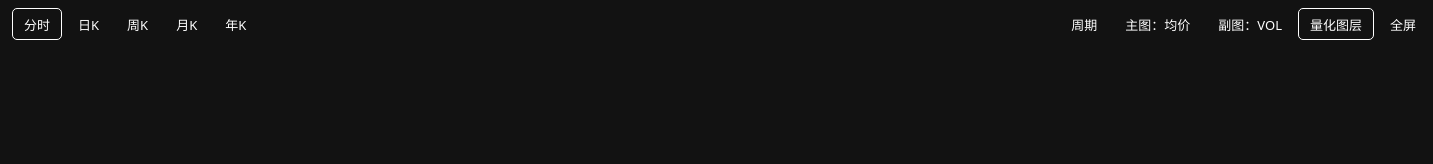
Test: offers MA and BOLL only for candle periods
Click the button "日K": (89, 24) left=66, top=8, right=111, bottom=40
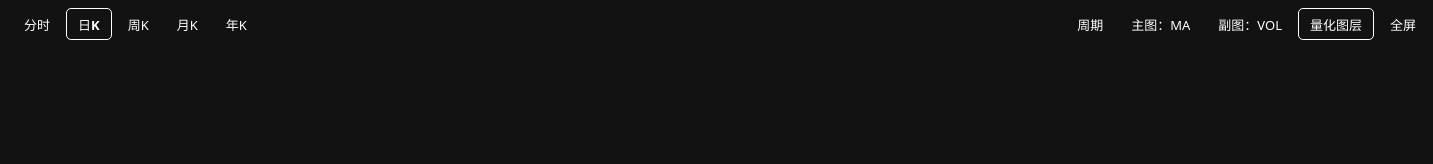
Check: the button "主图：MA" is shown
Click the button "主图：MA": (1161, 24) left=1119, top=8, right=1202, bottom=40
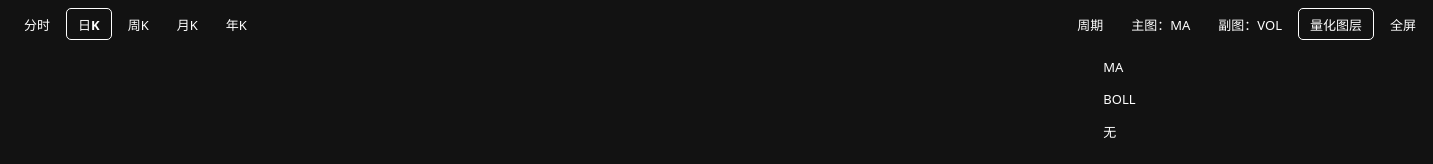
Check: the menu item "MA" is shown, box left=1091, top=51, right=1197, bottom=83
Check: the menu item "BOLL" is shown, box left=1091, top=83, right=1197, bottom=115
Check: the menu item "无" is shown, box left=1091, top=115, right=1197, bottom=147
